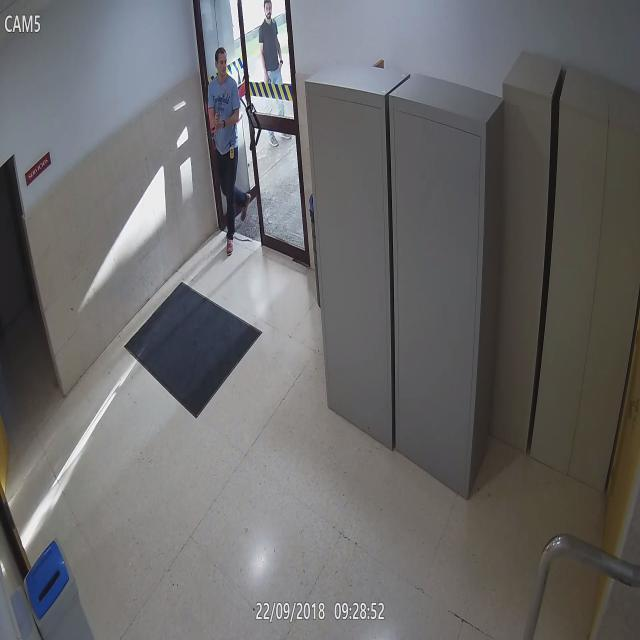Gun: (212, 101, 223, 126)
